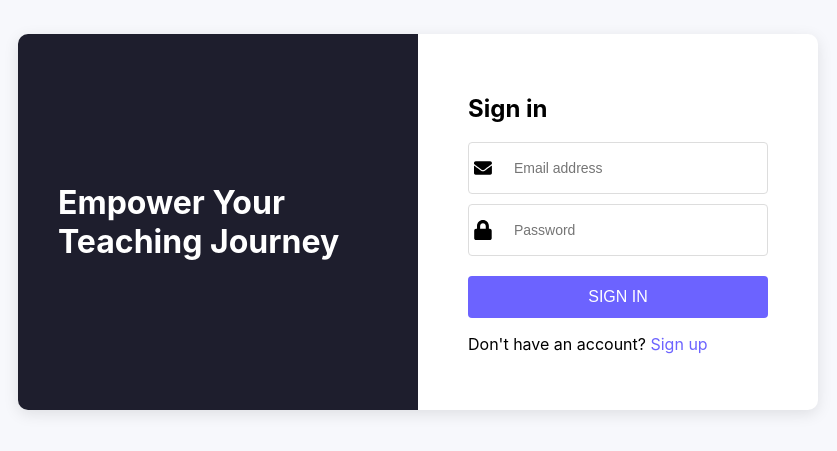
Test case: FacultyLogin › displays error message on login failure
Simulate user input
Type "wrong@example.com" into the field with placeholder "Email address" at (632, 168), box [502,148,762,188]
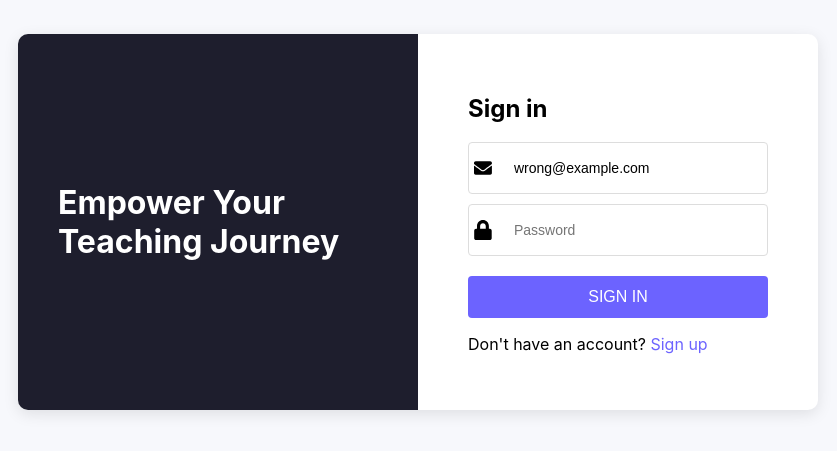
Type "wrongpassword" into the password field with placeholder "Password" at (632, 230), box [502,210,762,250]
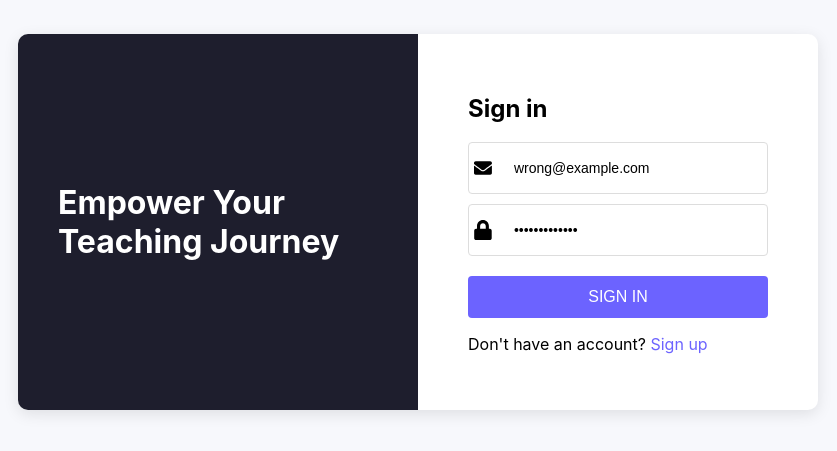
Simulate form submission
Click the button "SIGN IN" at (618, 297), box [468,276,768,318]
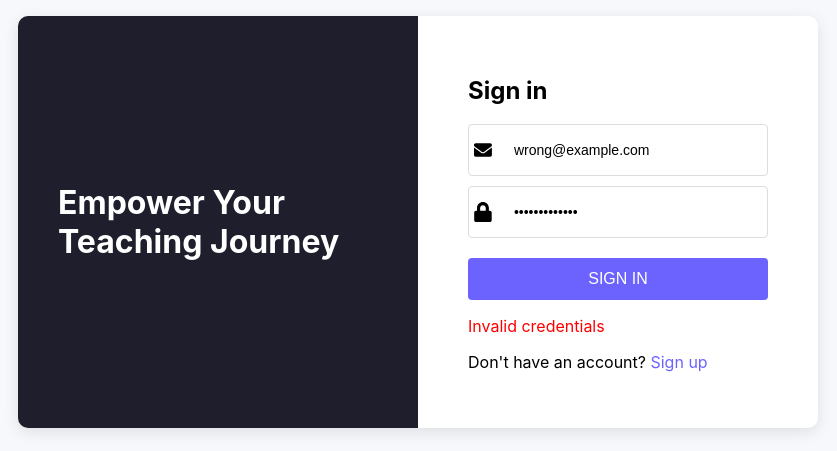
Expected: the text "Invalid credentials" is shown, [468,316,605,336]
